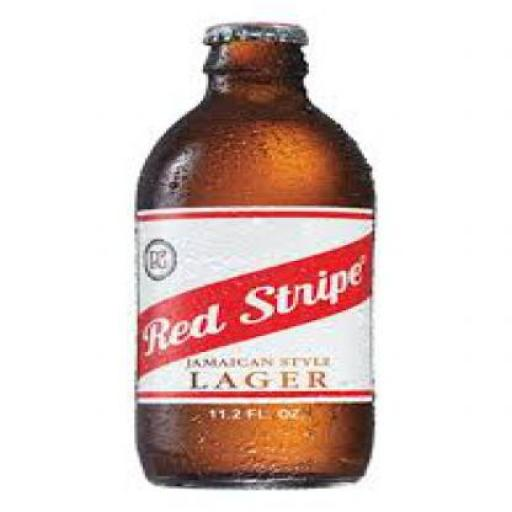glass: (135, 38, 372, 488)
metal: (200, 22, 306, 40)
